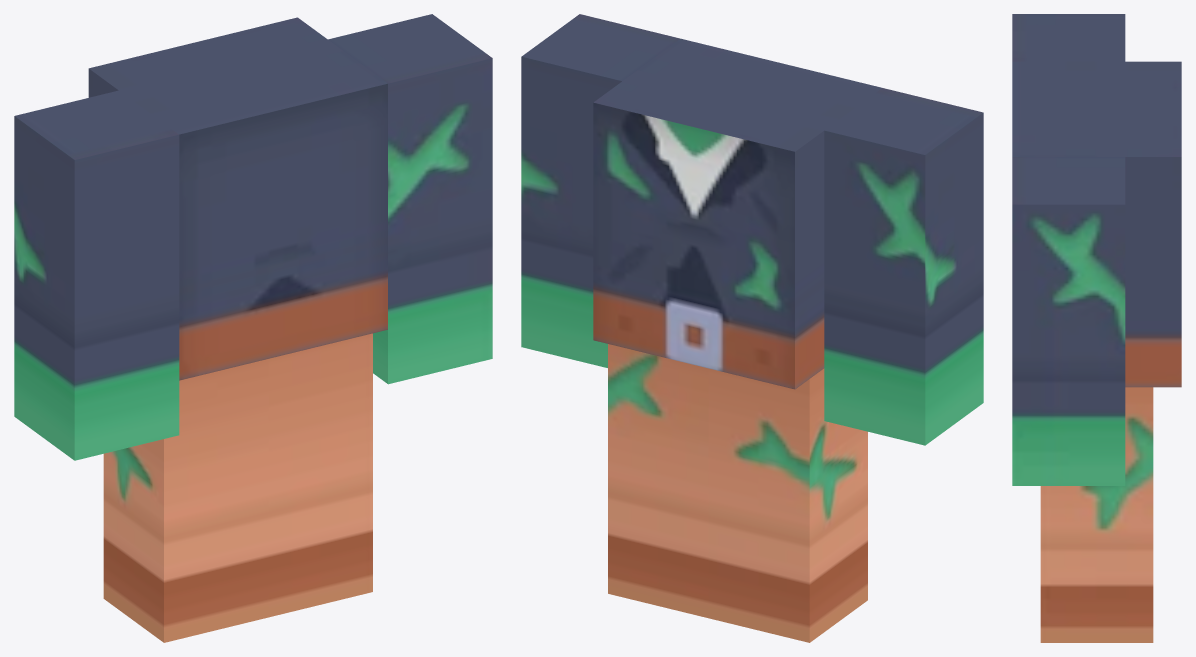
The model's file is blocky-l.glb.
3 views of the same model, side by side, from view 1: azimuth 30°, elevation 25°; view 2: azimuth 150°, elevation 25°; view 3: azimuth 270°, elevation 25° (orthographic). The views are drawn at different scales.
Parts seen in each view (by area): view 1: torso, arm-left, arm-right, leg-left, leg-right; view 2: torso, arm-left, leg-left, arm-right, leg-right; view 3: arm-right, torso, leg-right, arm-left.
Boxes of the visible parts, <box> form: torso: <box>88,17,387,380</box>; arm-left: <box>14,90,179,460</box>; arm-right: <box>328,14,492,384</box>; leg-left: <box>103,359,268,642</box>; leg-right: <box>268,333,372,617</box>; torso: <box>593,38,881,389</box>; arm-left: <box>824,88,983,445</box>; leg-left: <box>708,368,867,642</box>; arm-right: <box>521,14,679,367</box>; leg-right: <box>608,344,708,618</box>; arm-right: <box>1012,157,1125,485</box>; torso: <box>1012,61,1181,387</box>; leg-right: <box>1040,387,1153,642</box>; arm-left: <box>1012,14,1125,61</box>.
Size of the model in its own units: 1.21 by 1.44 by 0.4537.
Materials: 1 (1 with a texture image).
